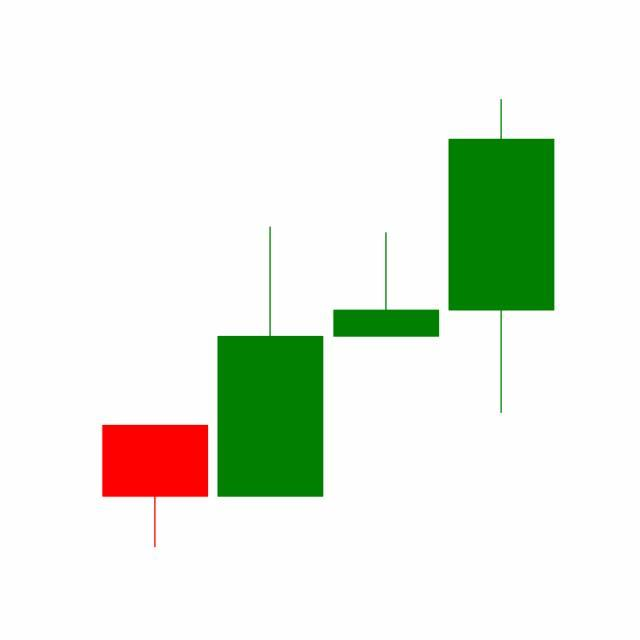Gravestone Doji: (329, 231, 445, 339)
